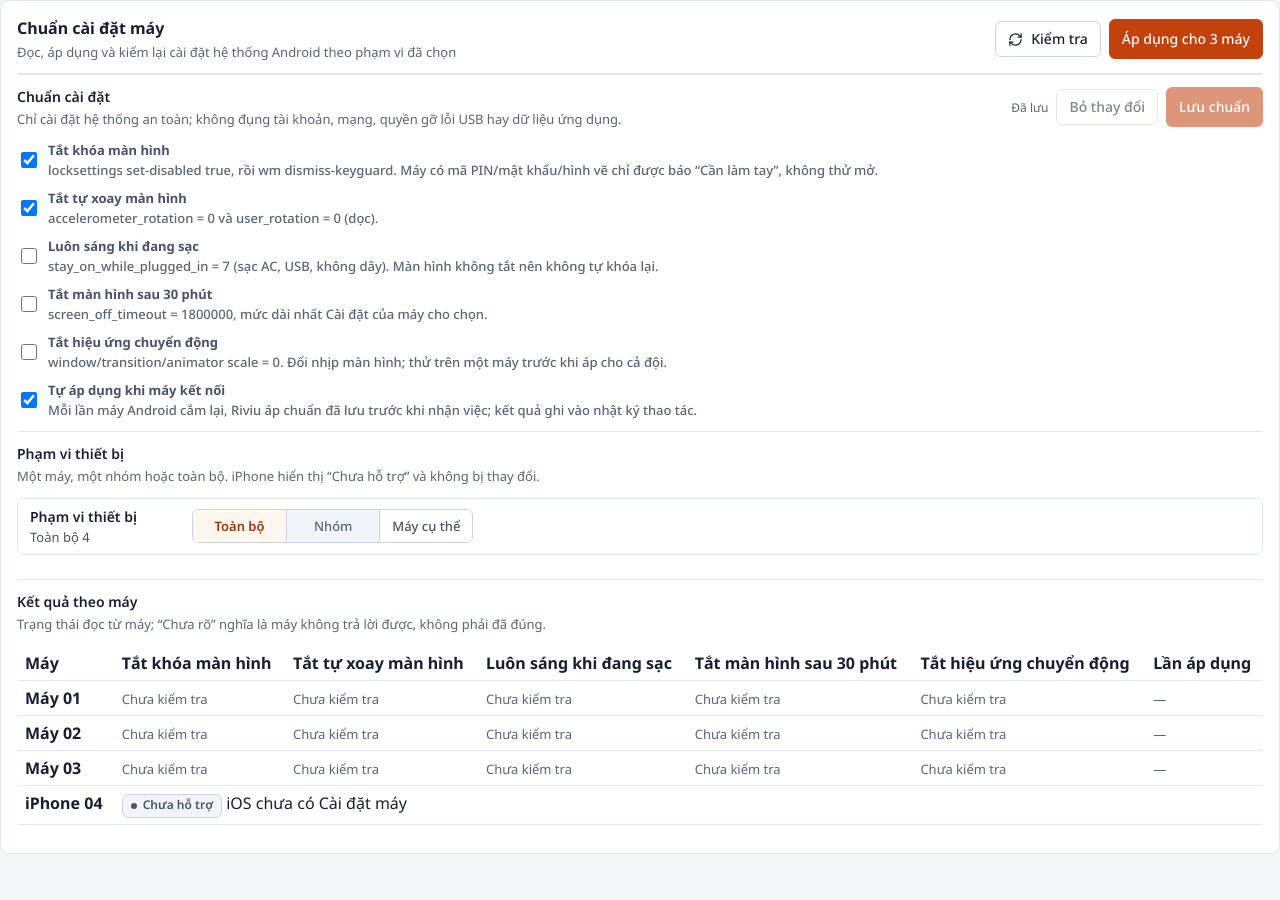
DeviceSettingsPage › persists the auto-apply option and blocks apply until the baseline is saved
Click the checkbox labelled "Tự áp dụng khi máy kết nối" at (29, 400), box left=21, top=392, right=37, bottom=408
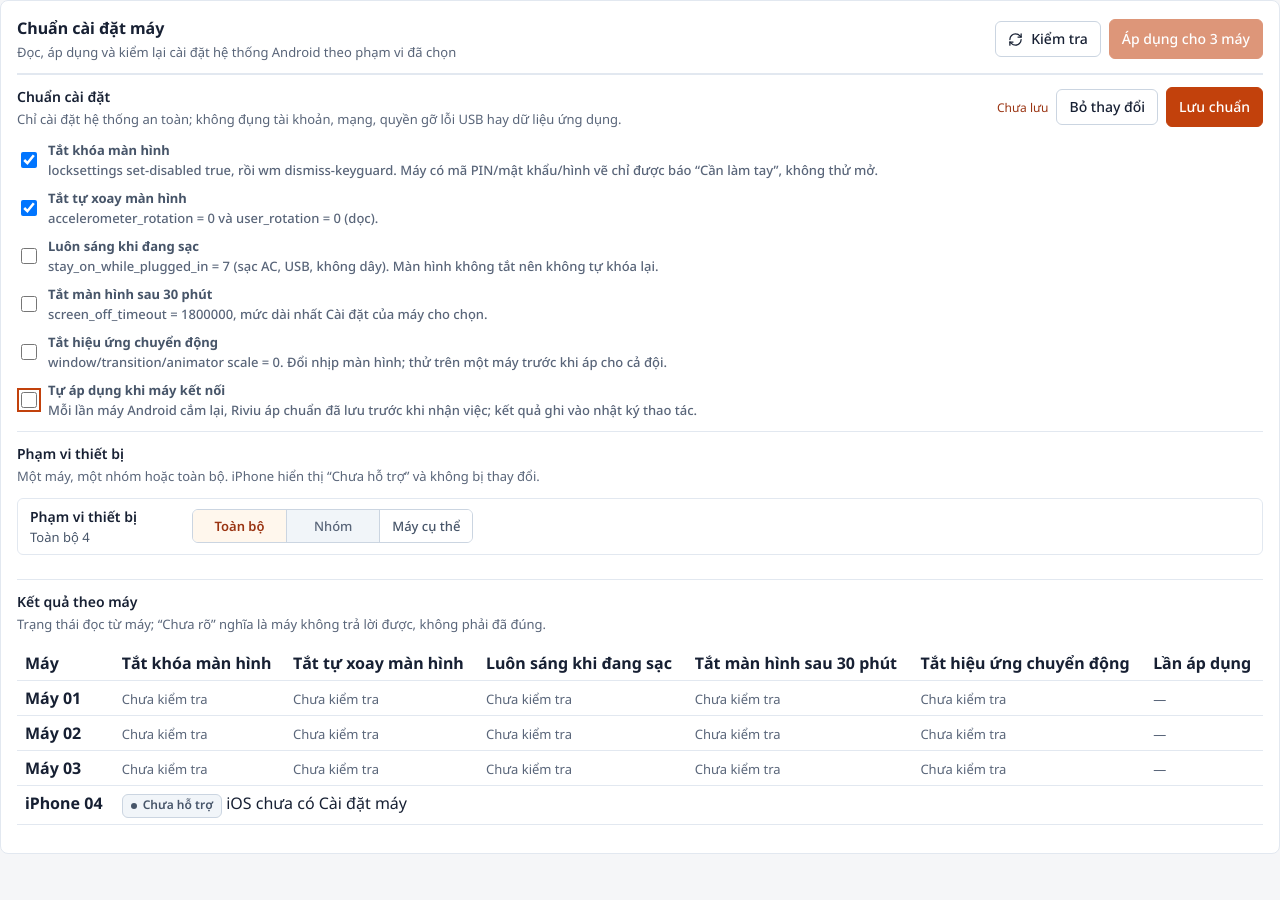
Click the checkbox labelled "Tắt hiệu ứng chuyển động" at (29, 352), box left=21, top=344, right=37, bottom=360
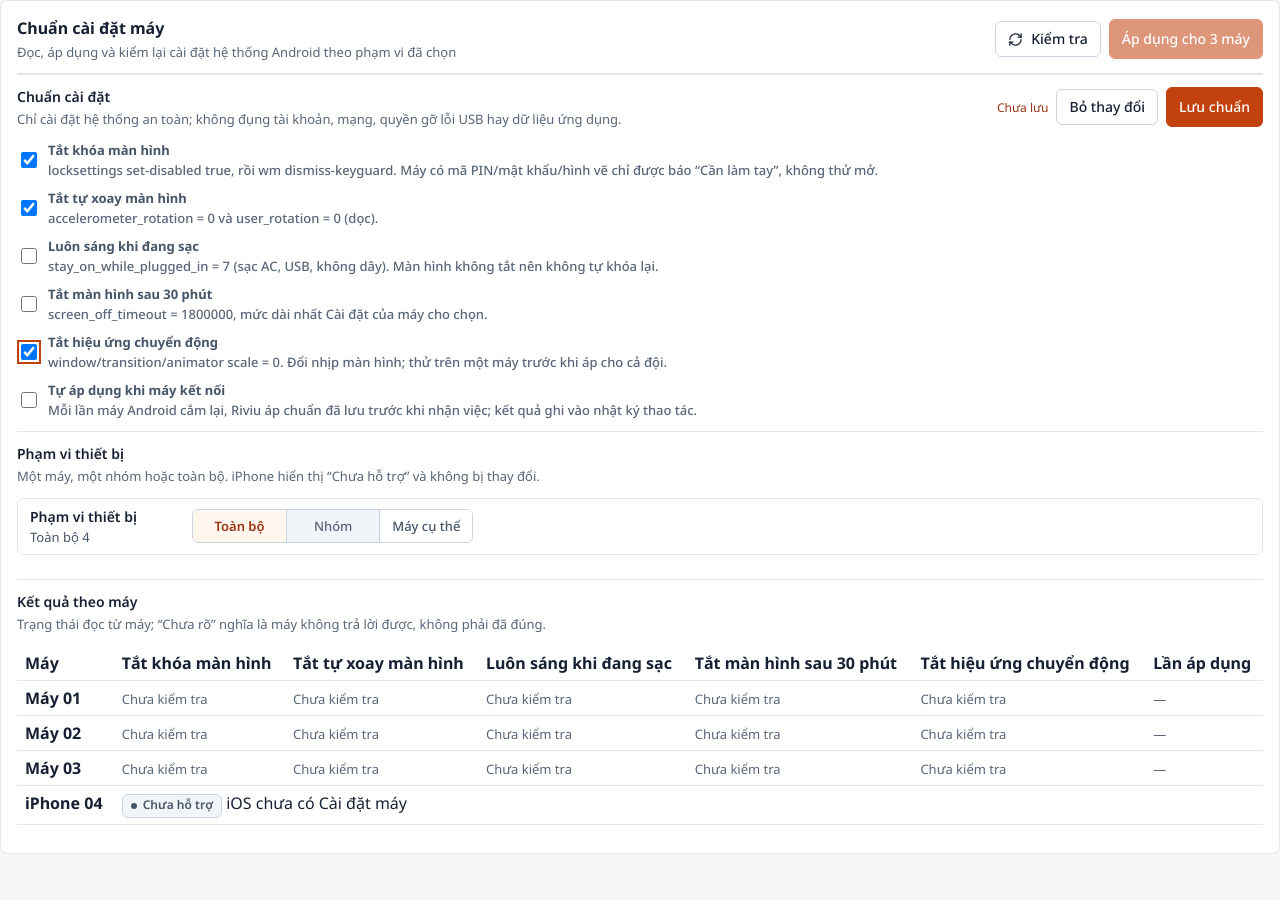
Expected: the text "Chưa lưu" is shown, left=997, top=98, right=1048, bottom=116
Expected: the button "Áp dụng cho 3 máy" is disabled, left=1109, top=19, right=1263, bottom=59
Click the button "Lưu chuẩn" at (1215, 107), box left=1166, top=87, right=1263, bottom=127
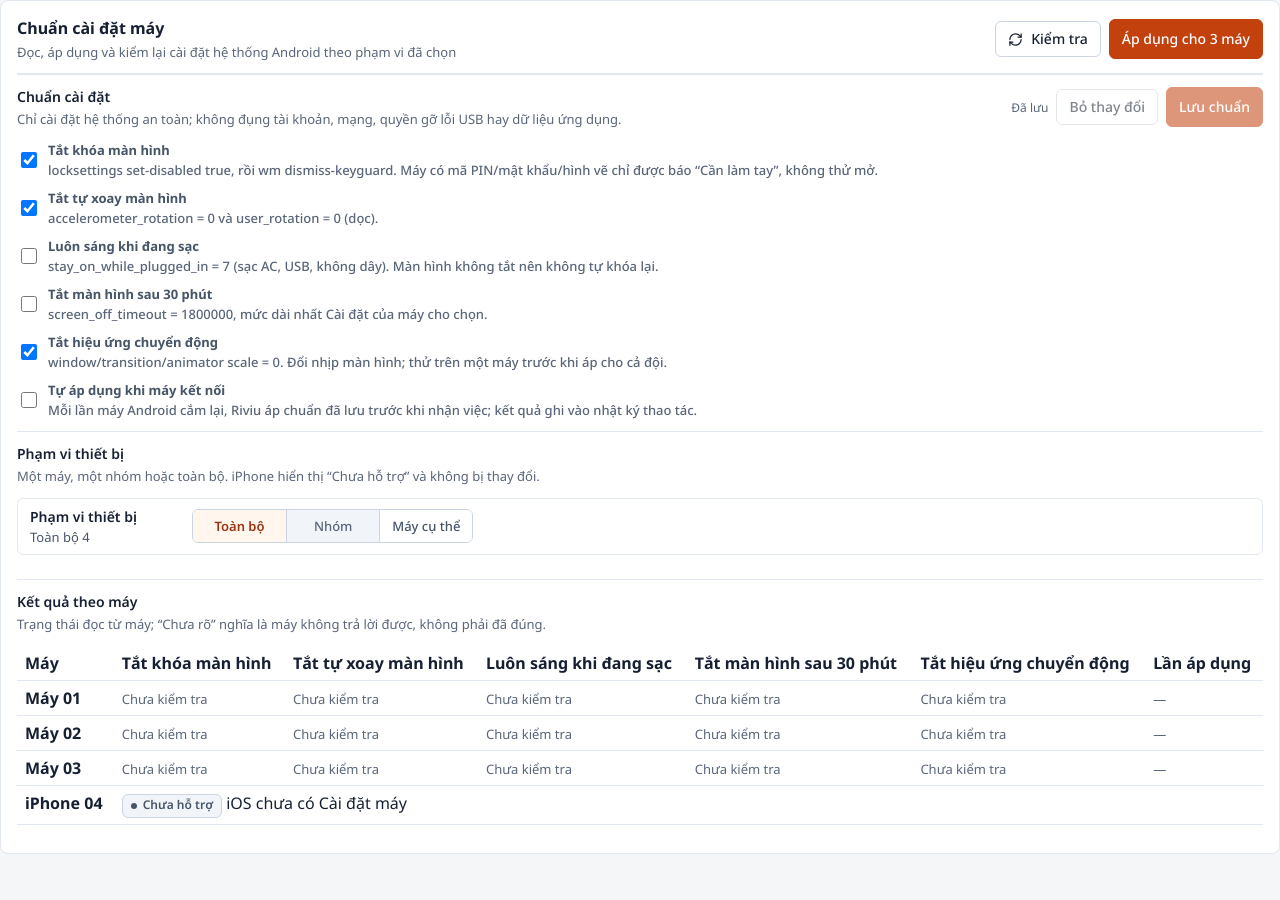
Expected: the text "Đã lưu" is shown, left=1011, top=98, right=1048, bottom=116
Expected: the button "Áp dụng cho 3 máy" is enabled, left=1109, top=19, right=1263, bottom=59
